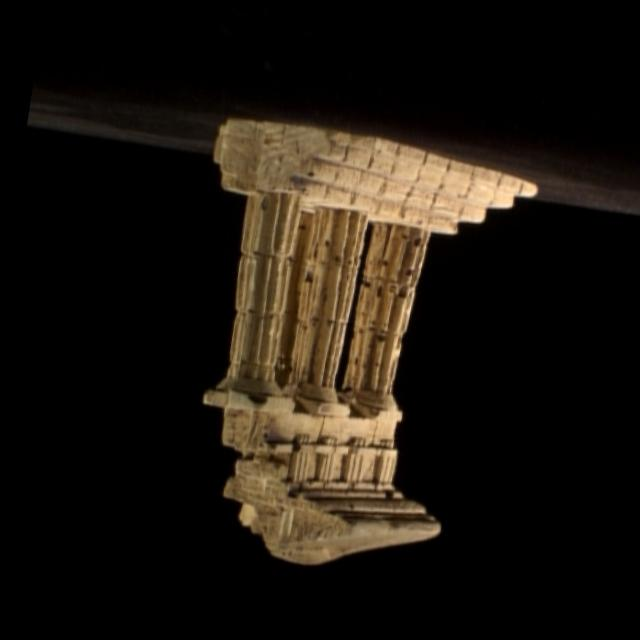Instance-Segmentation: (204, 119, 536, 563)
